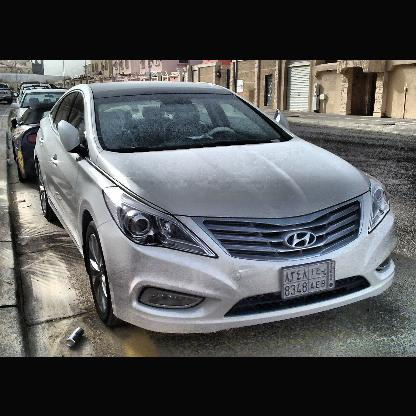Hyundai Azera Sedan 2012: (23, 75, 404, 337)
